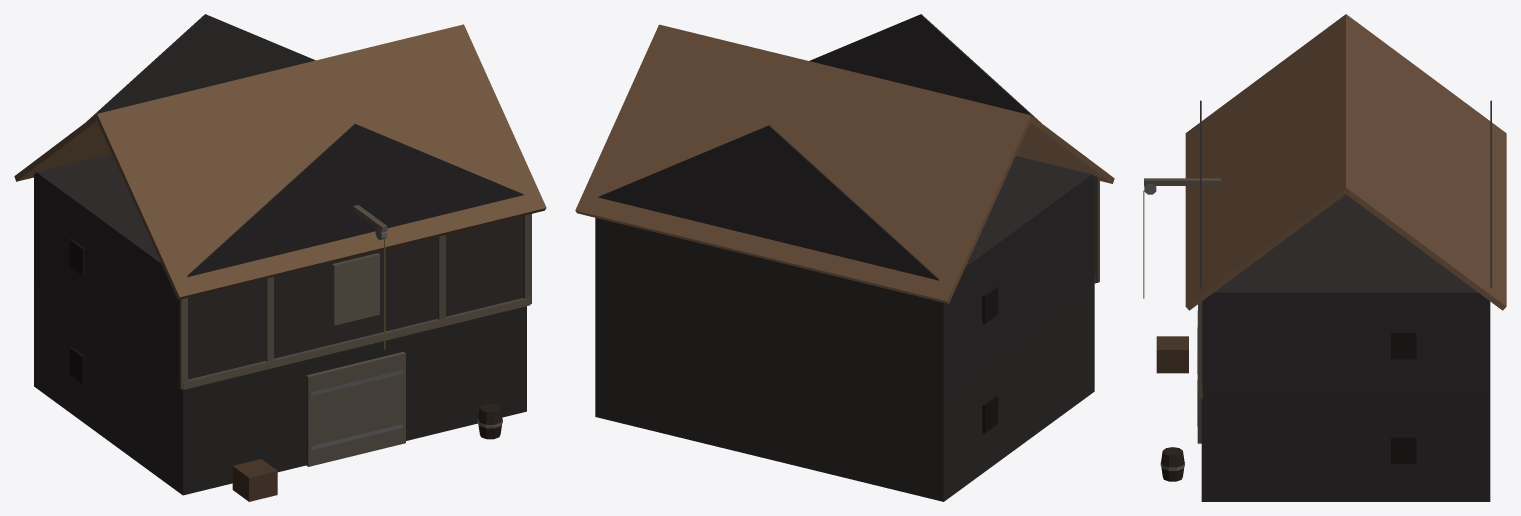
File: walk_ashen_warehouse.glb
The picture shows the model from 3 angles, left to right: view 1: azimuth 30°, elevation 25°; view 2: azimuth 150°, elevation 25°; view 3: azimuth 270°, elevation 25°; orthographic projection. The views are drawn at different scales.
Parts seen in each view (by area): view 1: walk_ashen_warehouse, walk_ashen_warehouse_roof; view 2: walk_ashen_warehouse, walk_ashen_warehouse_roof; view 3: walk_ashen_warehouse, walk_ashen_warehouse_roof.
Boxes of the visible parts, x1,y1,x2,y2 form: walk_ashen_warehouse: (34, 154, 531, 501); walk_ashen_warehouse_roof: (14, 14, 546, 299); walk_ashen_warehouse: (595, 156, 1099, 501); walk_ashen_warehouse_roof: (575, 14, 1114, 303); walk_ashen_warehouse: (1143, 178, 1490, 501); walk_ashen_warehouse_roof: (1185, 14, 1506, 310).
Size of what is drawn, in the model's own units: 12.8 by 11 by 11.31.
Materials: 2 (2 with a texture image).
